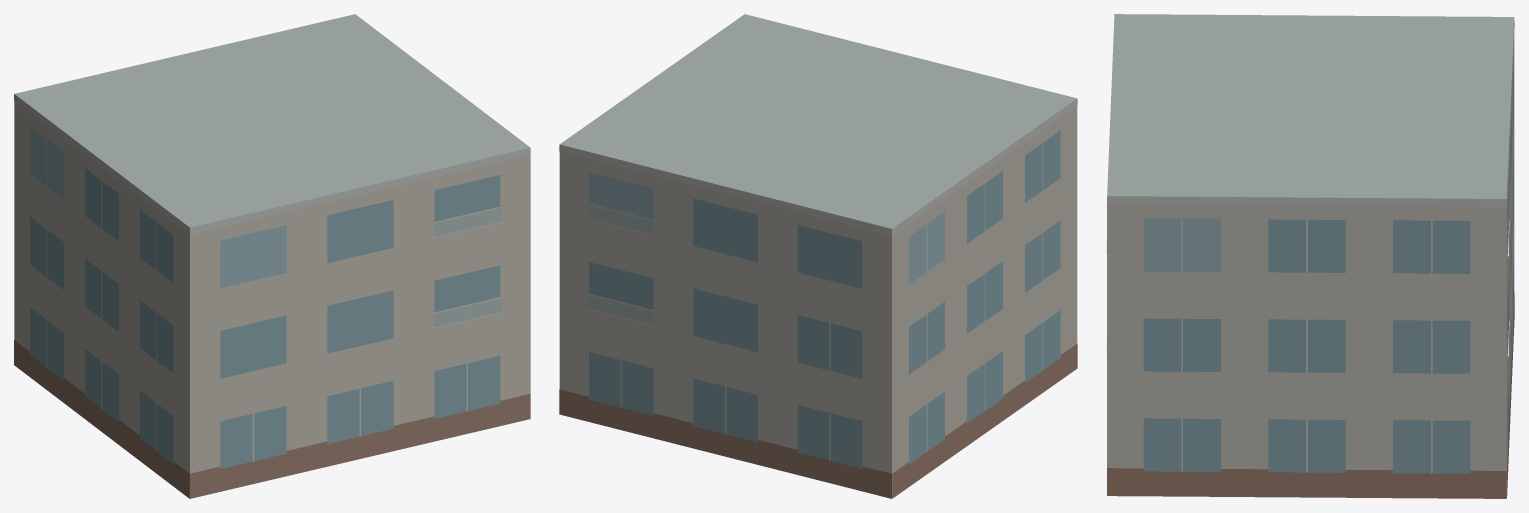
Rendered from survey-upis-32837908.glb.
The picture shows the model from 3 angles, left to right: view 1: azimuth 30°, elevation 25°; view 2: azimuth 150°, elevation 25°; view 3: azimuth 270°, elevation 25°; orthographic projection. The views are drawn at different scales.
Parts seen in each view (by area): view 1: survey-upis-32837908.tmp; view 2: survey-upis-32837908.tmp; view 3: survey-upis-32837908.tmp.
Part boxes in pixels (x1,y1,x2,y2): survey-upis-32837908.tmp: [14, 14, 530, 498]; survey-upis-32837908.tmp: [559, 14, 1077, 498]; survey-upis-32837908.tmp: [1106, 14, 1514, 498].
Bounding box in the file's own units: 12.12 × 9.15 × 11.29.
